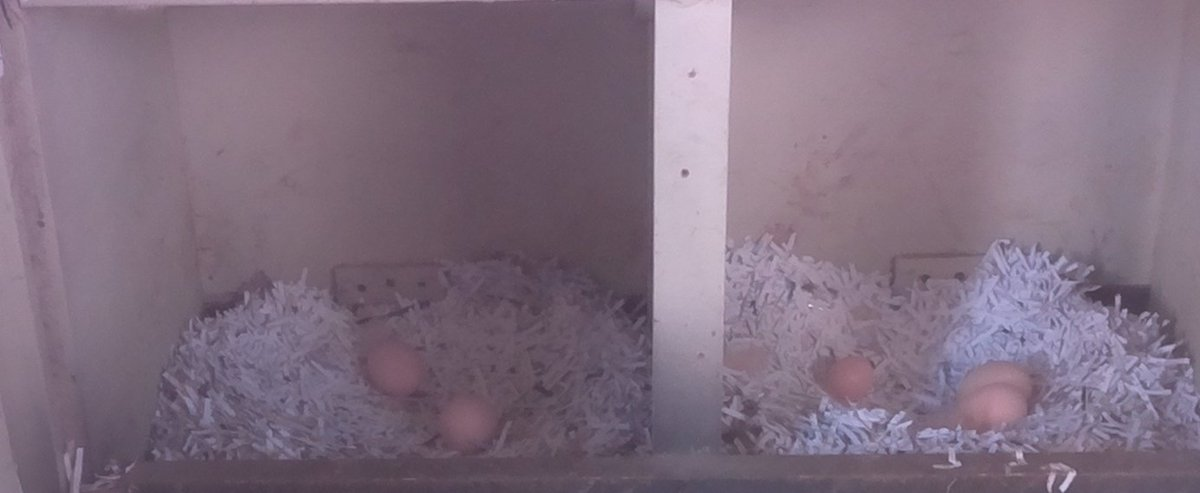egg: (357, 336, 429, 402), (433, 391, 502, 455), (960, 381, 1032, 436), (958, 357, 1042, 396), (825, 355, 877, 407)
